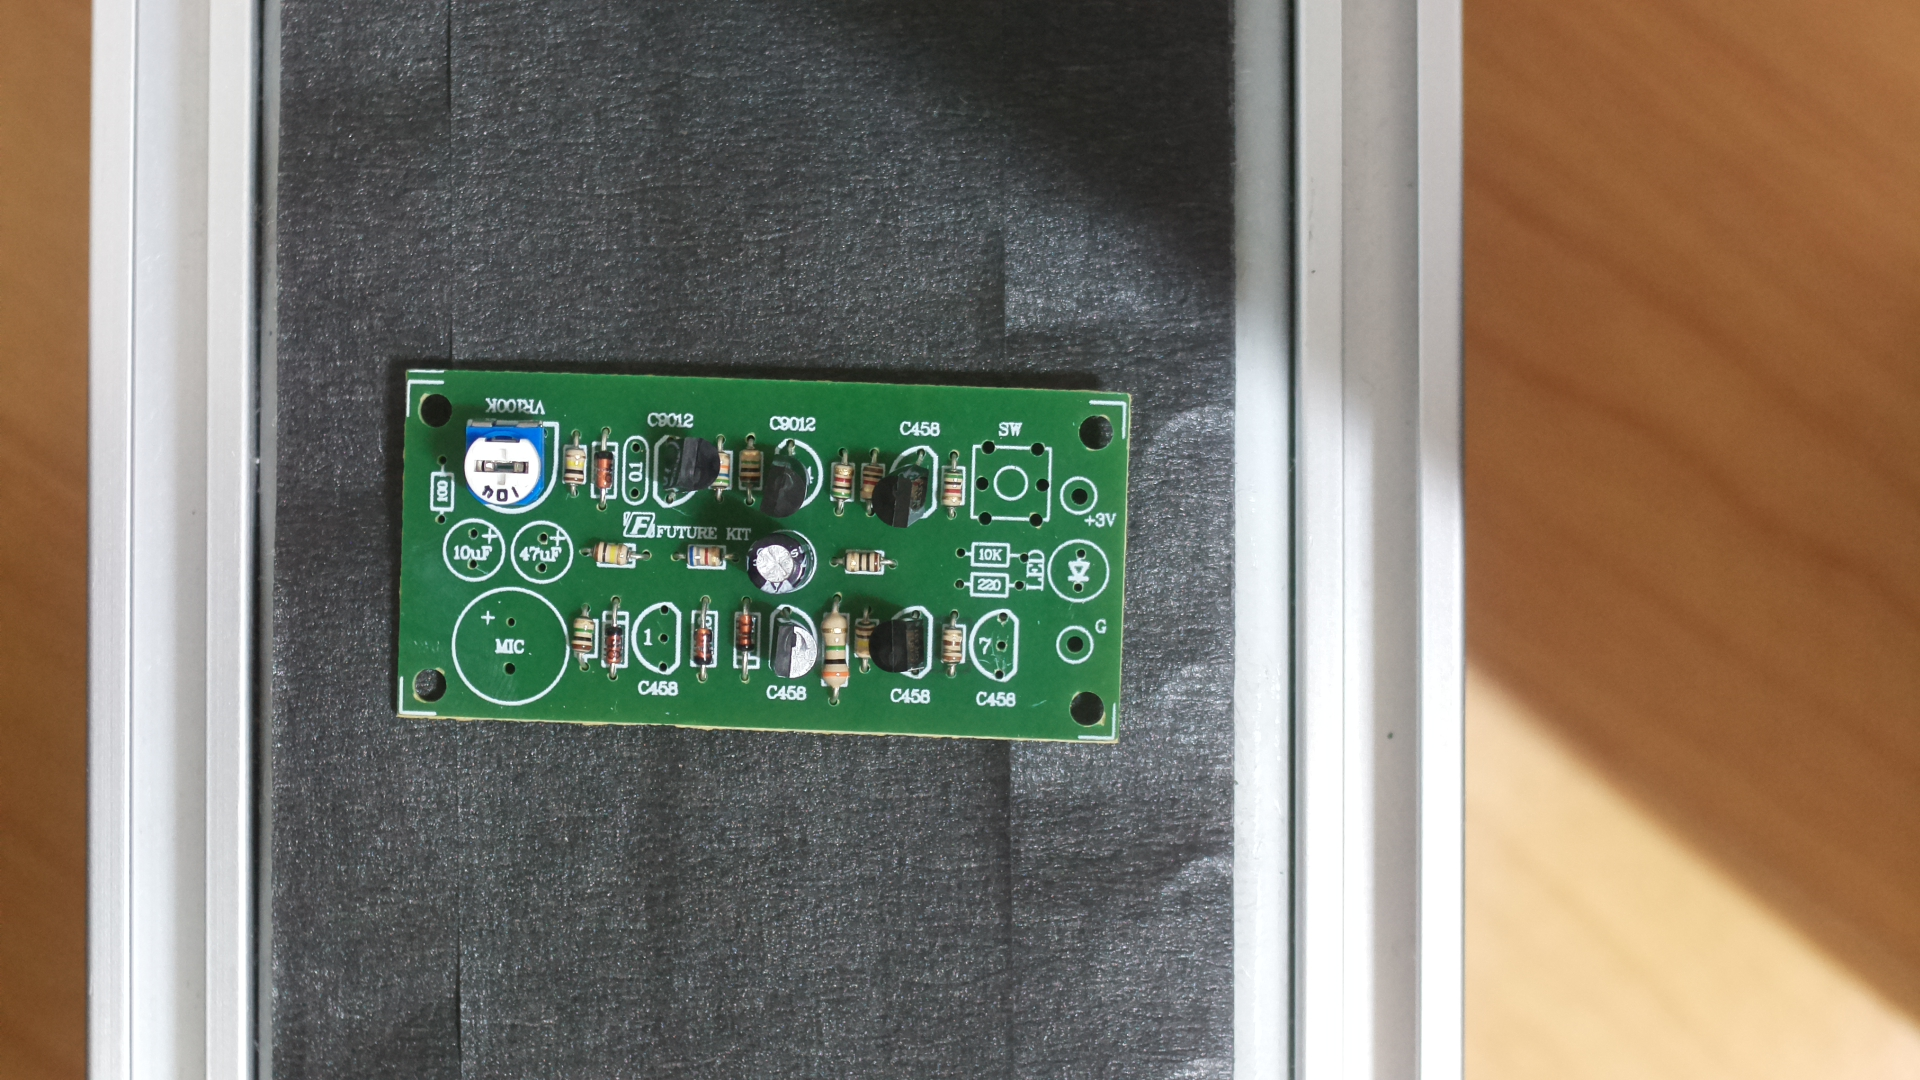A_Missing_part: (386, 353, 1139, 752)
